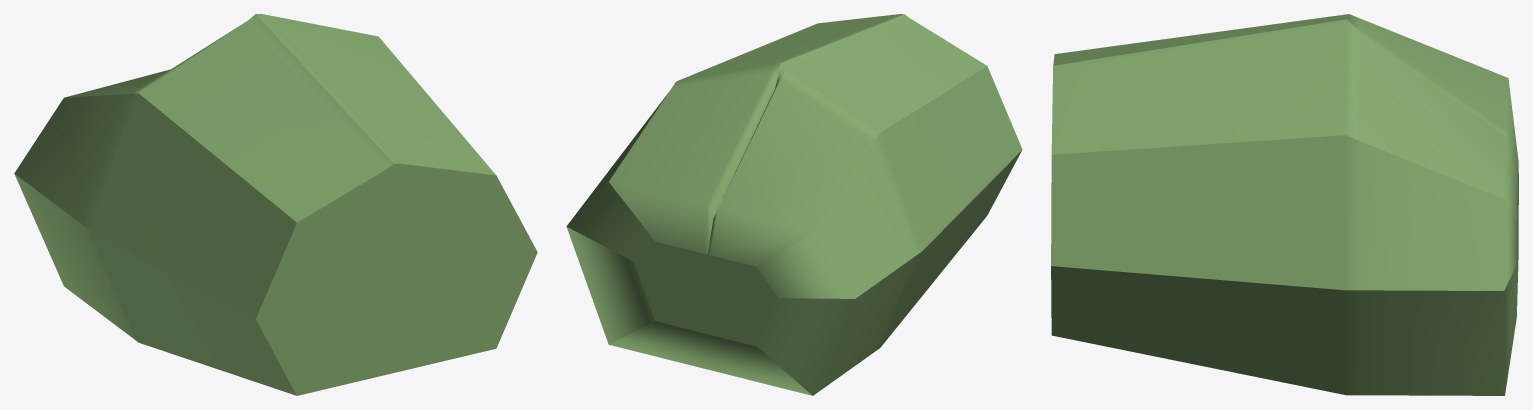
The model's file is Mouse.fbx.
3 renders of one model, left to right at view 1: azimuth 30°, elevation 25°; view 2: azimuth 150°, elevation 25°; view 3: azimuth 270°, elevation 25°, orthographic. The views are drawn at different scales.
Visible parts, largest first — view 1: Mouse; view 2: Mouse; view 3: Mouse.
Part boxes in pixels (x1,y1,x2,y2): Mouse: (14,14,537,395); Mouse: (566,14,1022,395); Mouse: (1051,14,1518,395).
Size of the model in its own units: 6.57 by 5.58 by 7.54.
